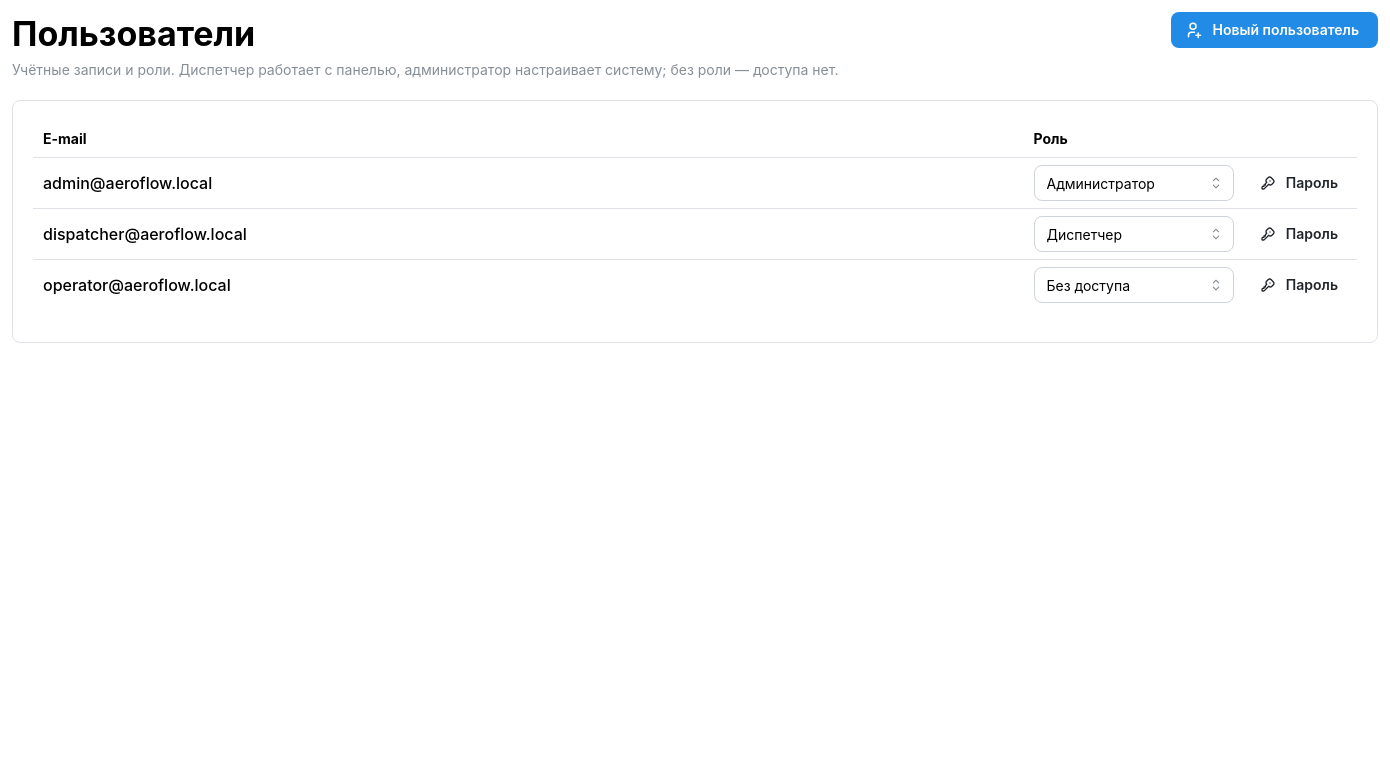
UsersScreen › explains why the last administrator cannot lose the role
Click the dropdown named "Роль admin@aeroflow.local". click: (1134, 183)
box: x1=1034 y1=165 x2=1234 y2=201
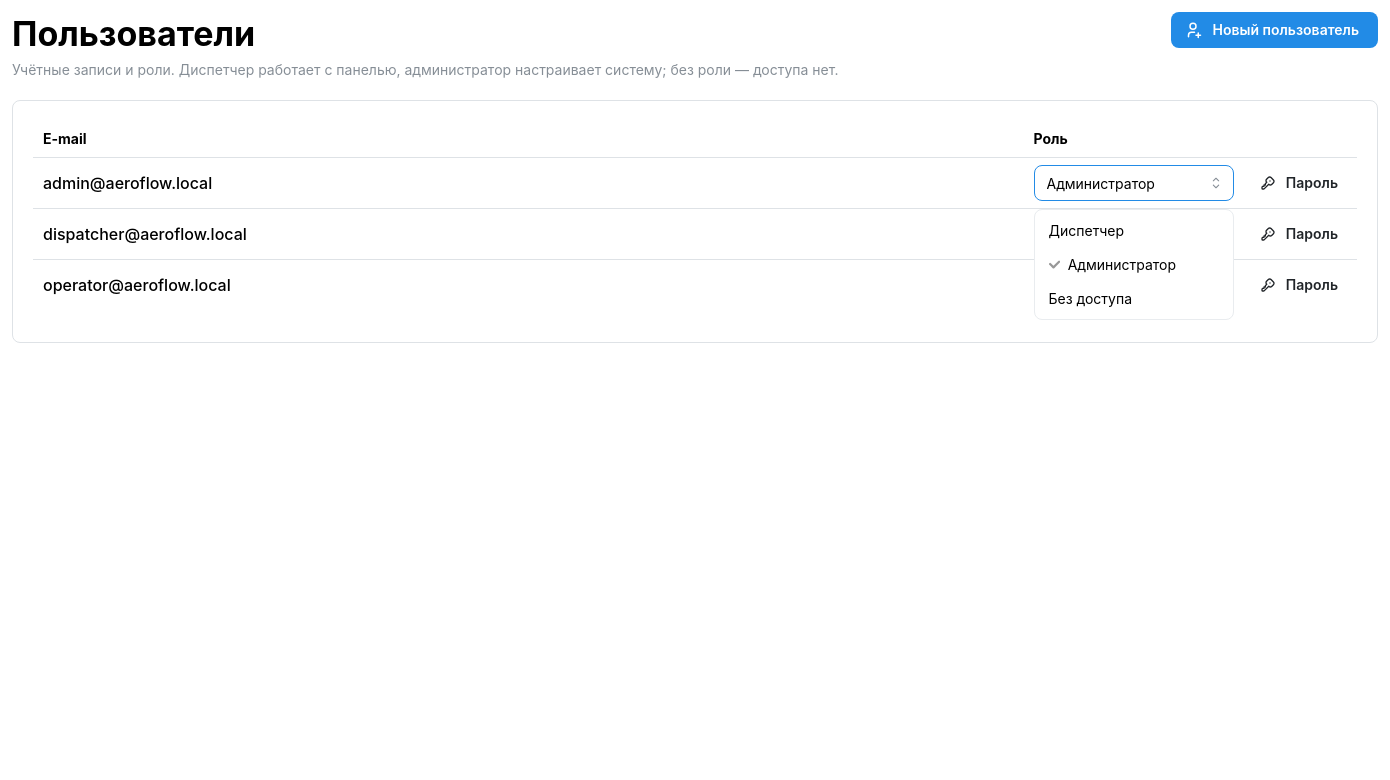
Click the option "Без доступа". click: (1090, 298)
box: x1=1048 y1=290 x2=1132 y2=306
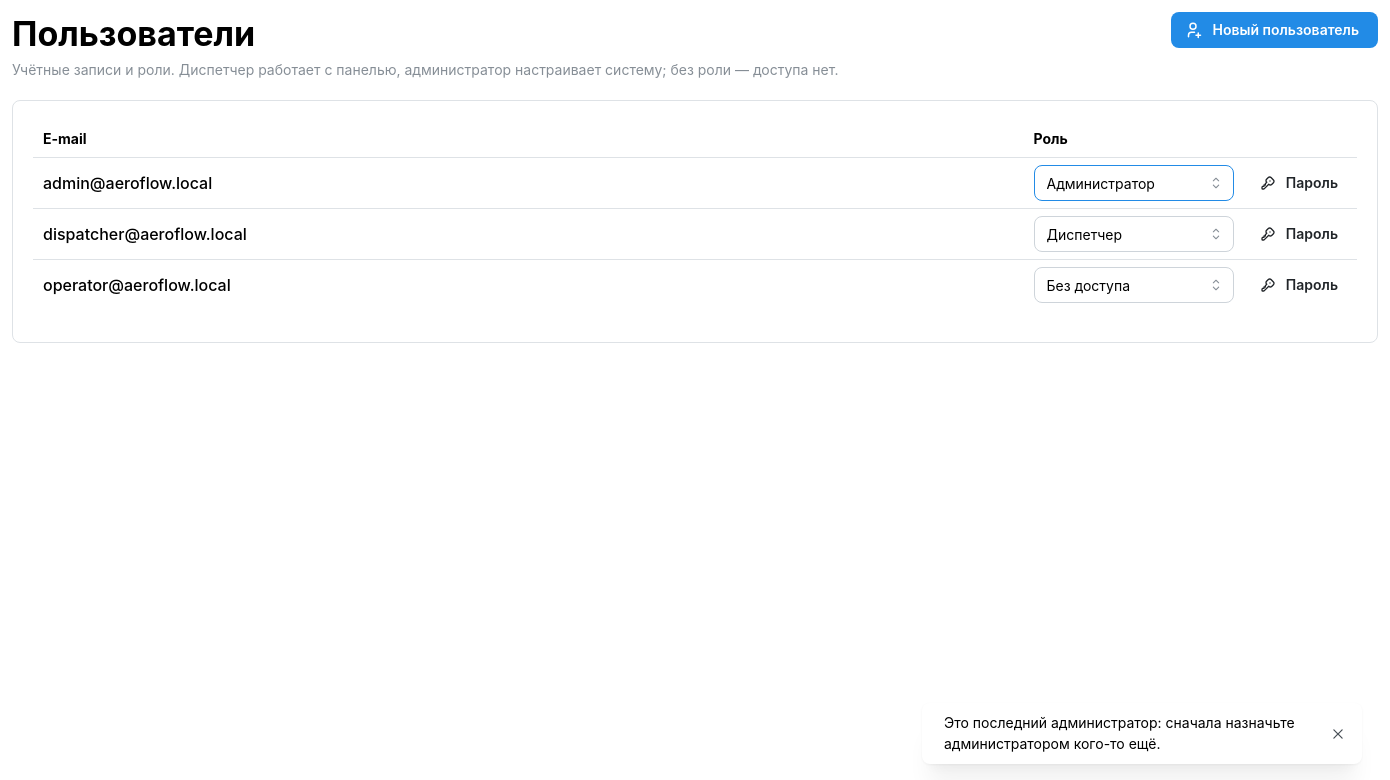
Result: the text "последний администратор" is shown at x1=944 y1=714 x2=1295 y2=752
